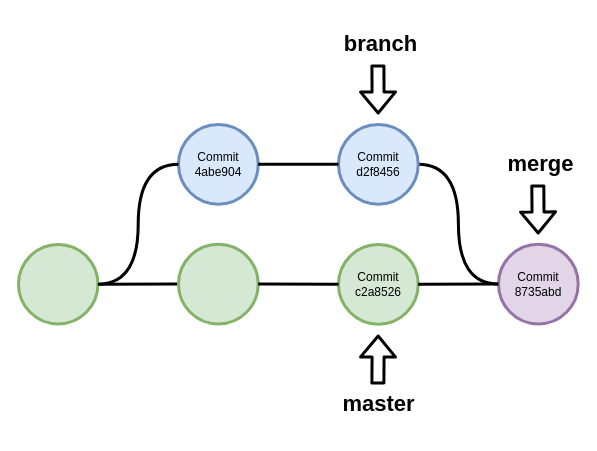
Image size: 597x451. Some labels were removed from this diagram. Each missing label, with the centre of its shape:
"Commit 4717904" goes at [217,283].
"Commit dc0ea03" goes at [57,283].
